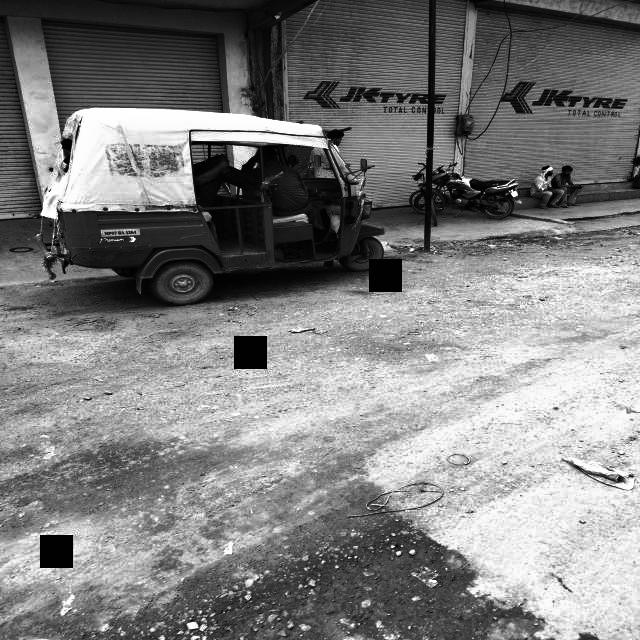Auto-Rickshaw: (44, 100, 395, 302)
